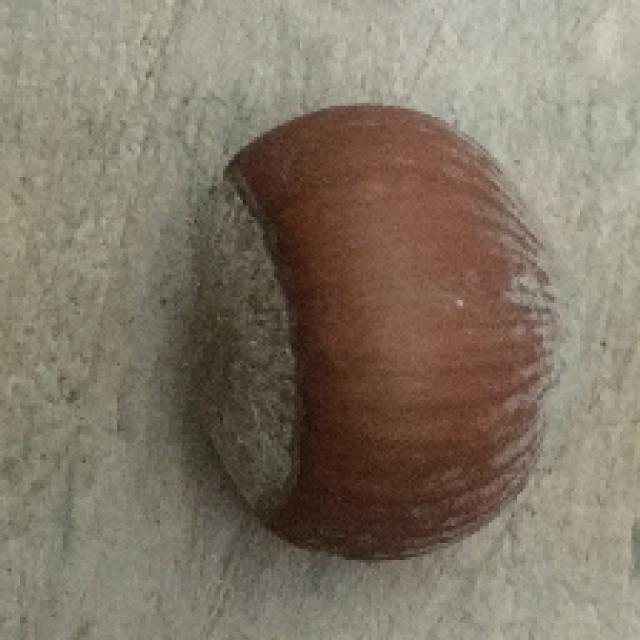qualityHazelnut: (190, 93, 577, 558)
